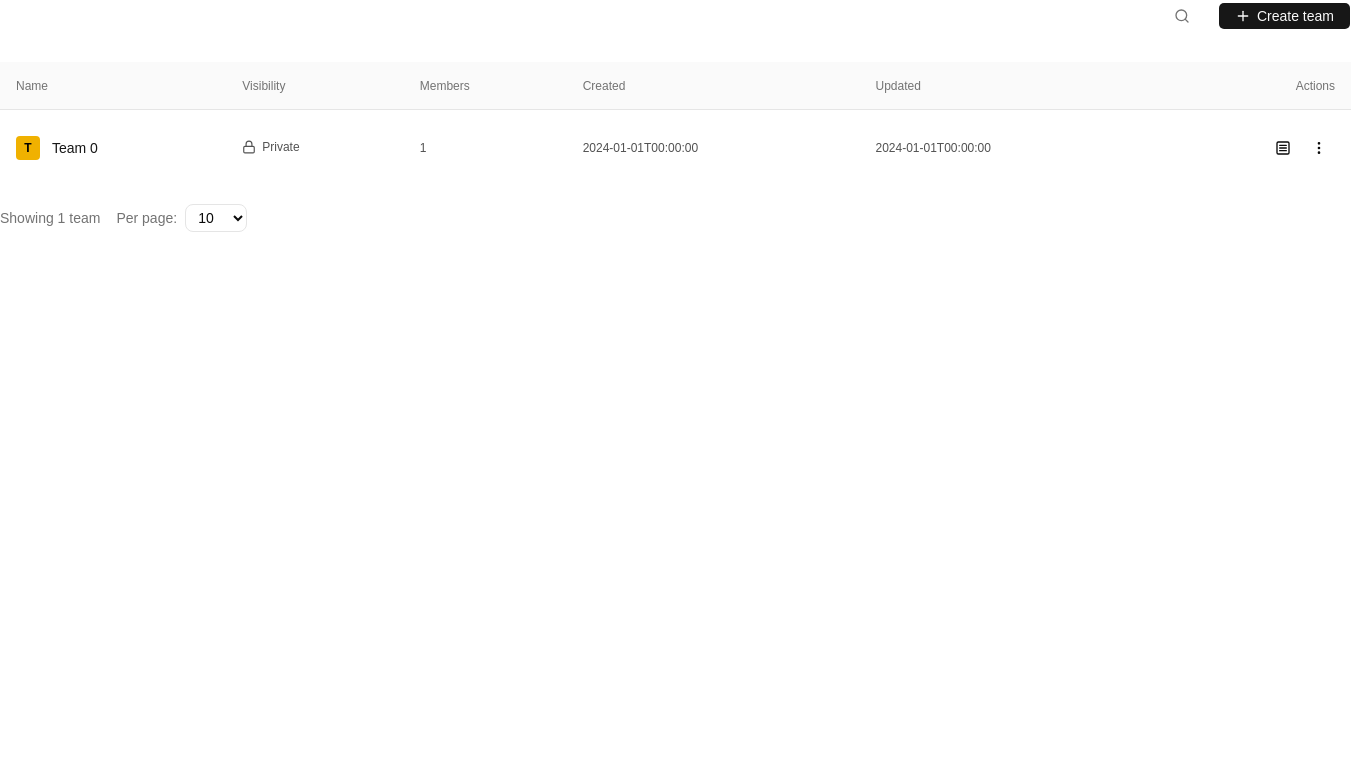
Test: Teams › shows delete confirmation dialog with team name
Expected: the text "Team 0" is shown, x1=52 y1=138 x2=98 y2=158
Click the button named "Actions for Team 0": [1319, 148] box x1=1303 y1=132 x2=1335 y2=164
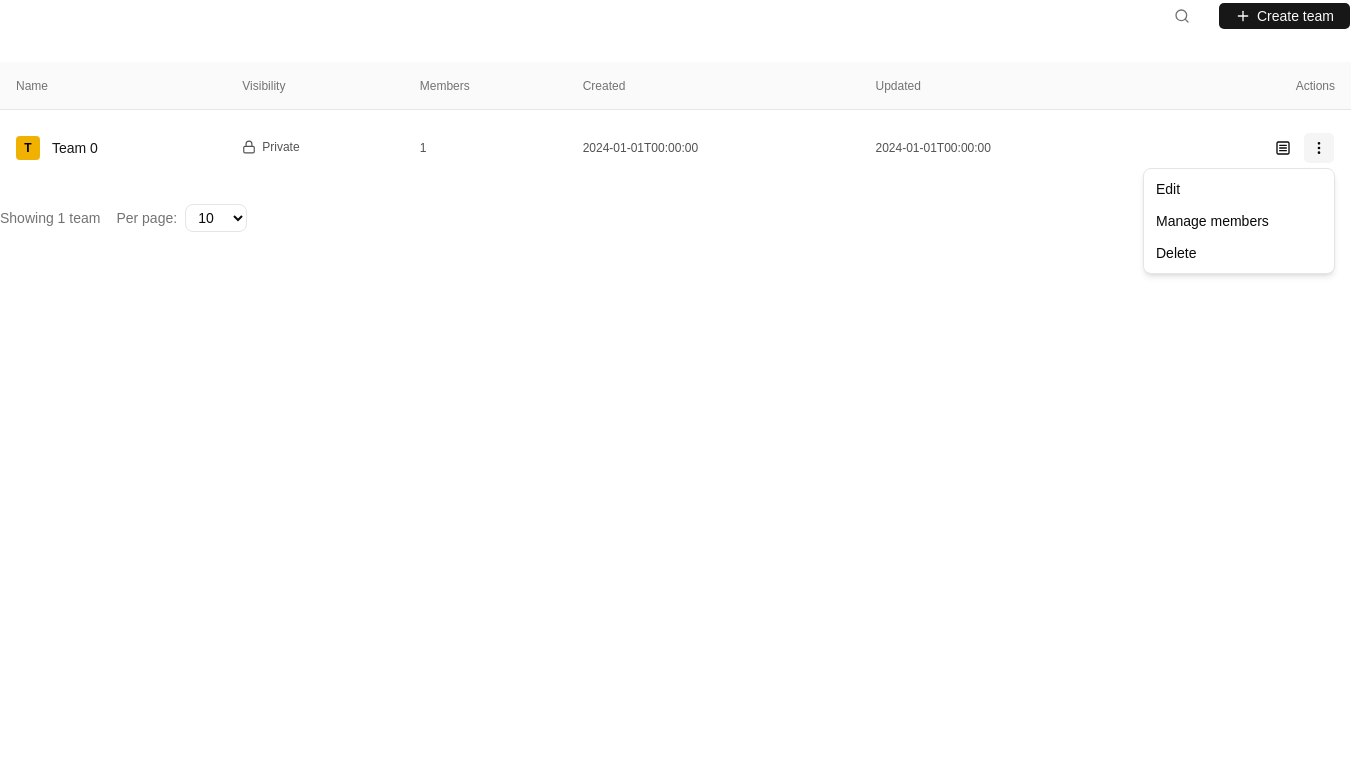
Click the menu item "Delete": [1176, 253] box x1=1156 y1=245 x2=1196 y2=261
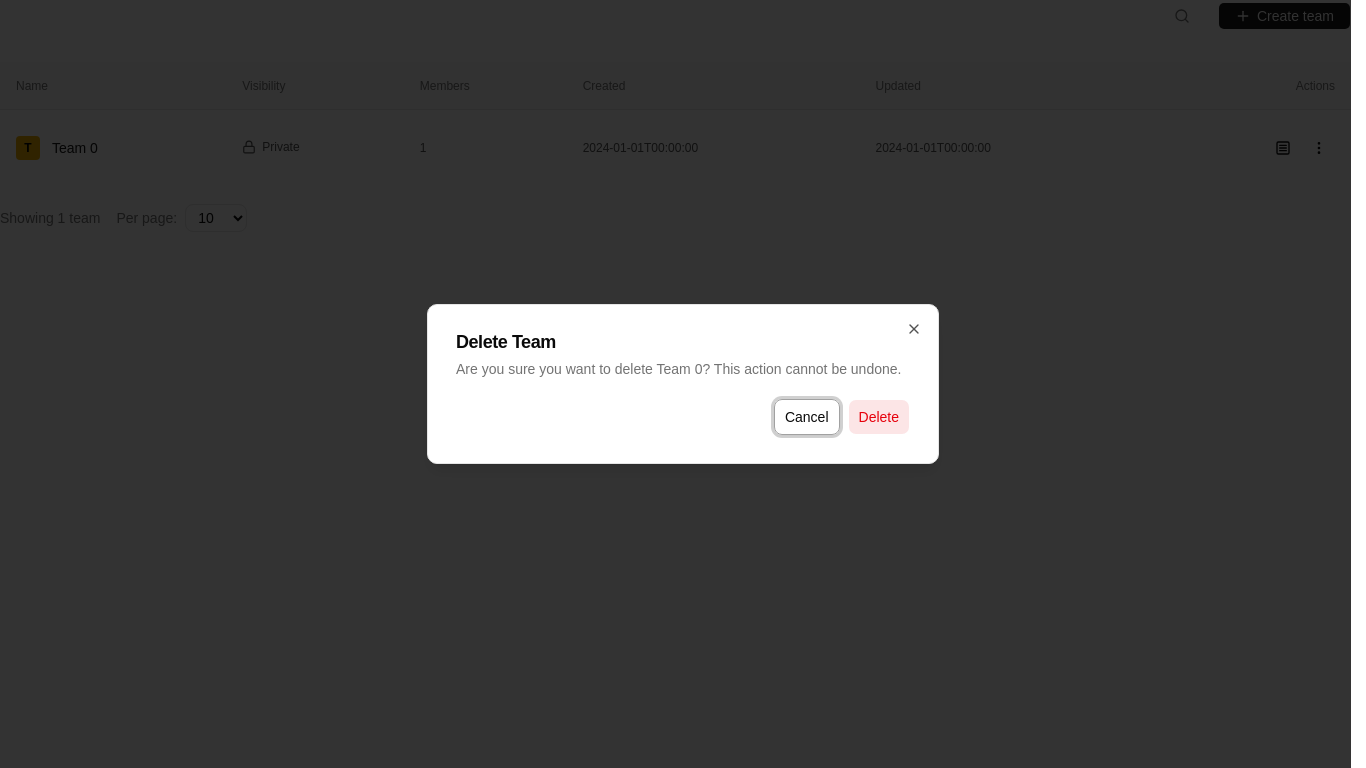
Result: the dialog is shown at x1=427 y1=304 x2=939 y2=464
Result: the text "Are you sure you want to delete Team 0" is shown at x1=456 y1=361 x2=902 y2=377
